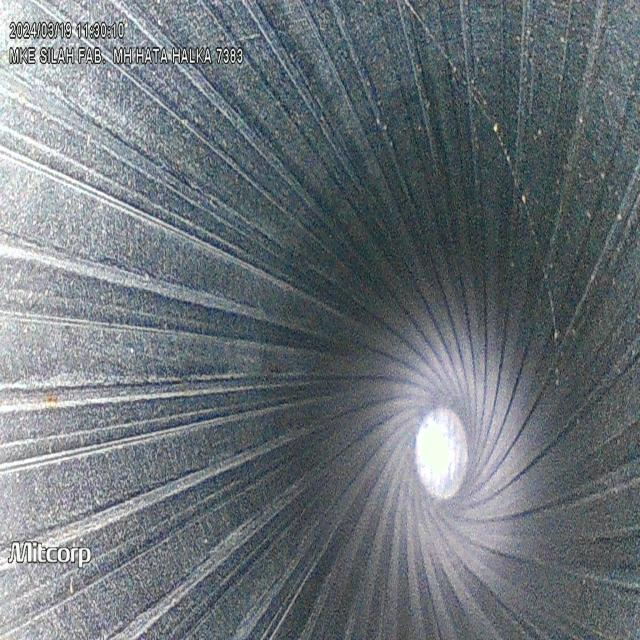hata_8.1: (388, 0, 598, 428)
